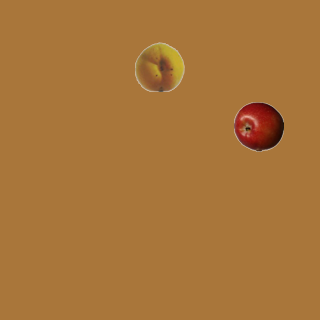Apple Braeburn: (233, 101, 283, 151)
Peach 2: (134, 41, 184, 91)
